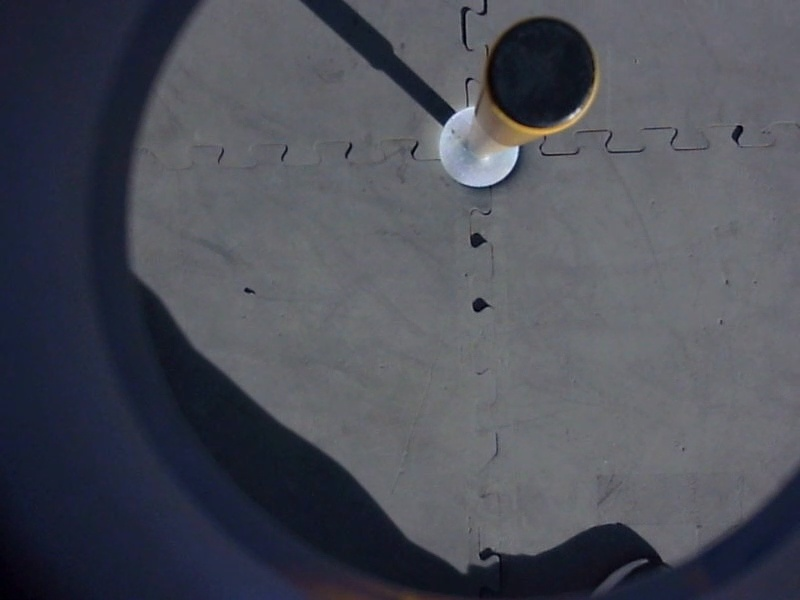tip: (480, 11, 605, 138)
